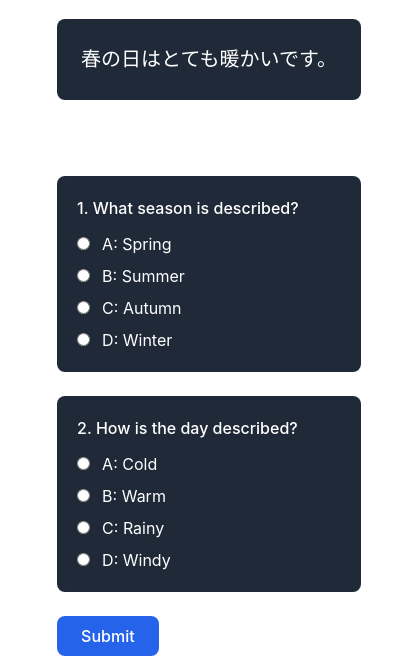
Test: ReadingDetailPage › submits answers and shows results
This screenshot has width=419, height=672.
(page scrolled)
Click the button "Submit" at [108, 636], box [57,616,159,656]
(page scrolled)
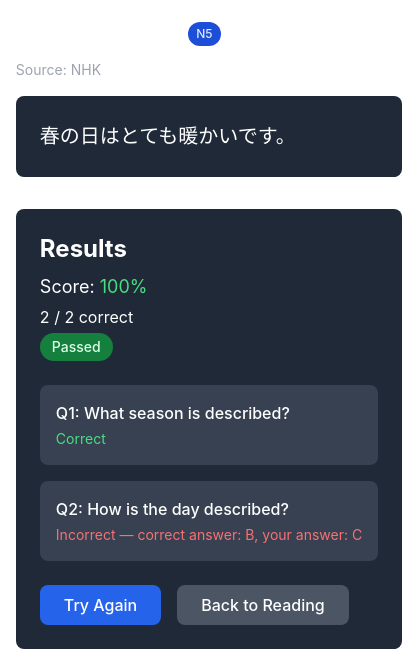
Check: the heading "Results" is shown, box [40,234,127,262]
Check: the text "100%" is shown, box [100,276,147,296]
Check: the text "Passed" is shown, box [40,332,113,360]
